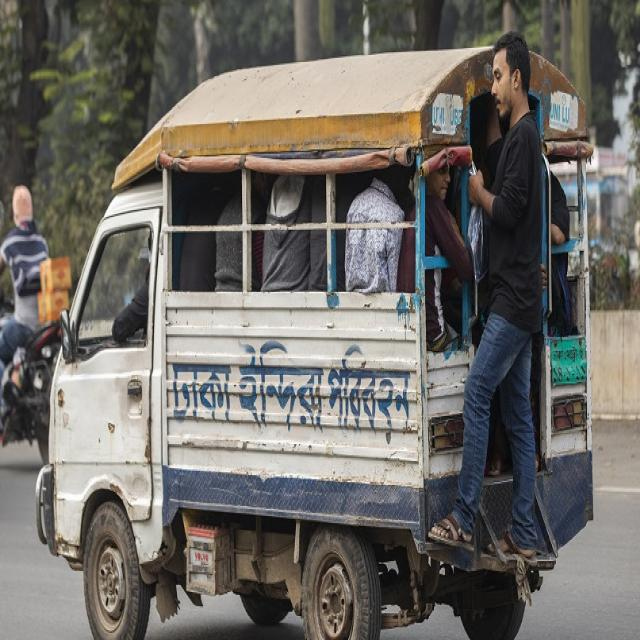Leguna: (35, 40, 597, 640)
